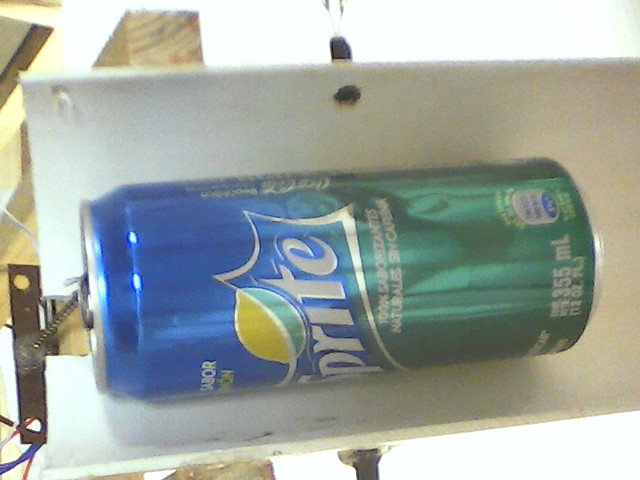lata: (72, 153, 607, 406)
